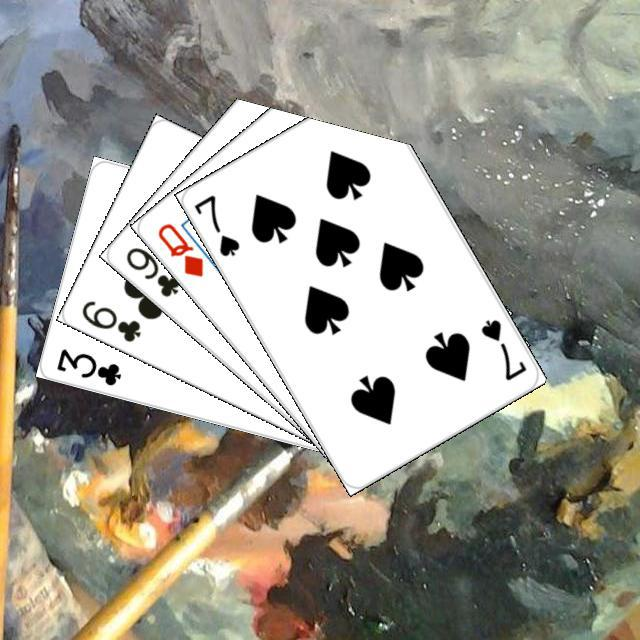3c: (51, 343, 123, 388)
6c: (76, 295, 143, 344)
7s: (189, 190, 242, 259), (475, 314, 528, 383)
9c: (121, 242, 182, 299)
Qd: (152, 218, 206, 279)
